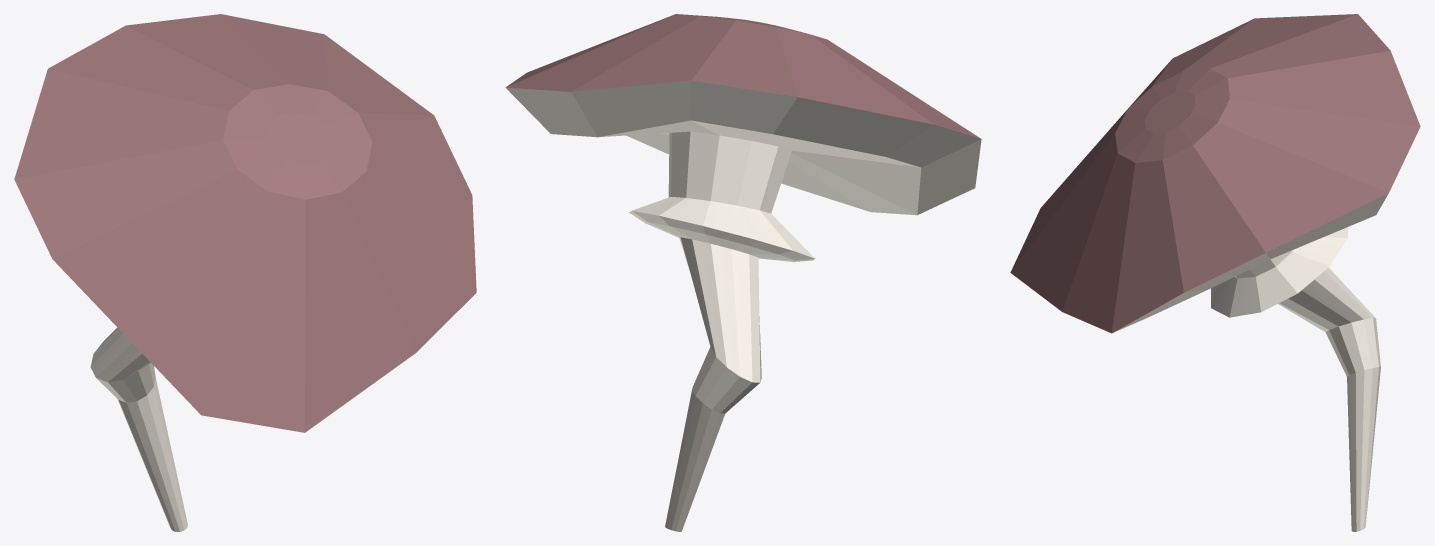
The model's file is MUSHROM3.fbx.
3 views of the same model, side by side, from view 1: azimuth 30°, elevation 25°; view 2: azimuth 150°, elevation 25°; view 3: azimuth 270°, elevation 25° (orthographic). The views are drawn at different scales.
Visible parts, largest first — view 1: Cube.001; view 2: Cube.001; view 3: Cube.001.
Boxes of the visible parts, x1=… form: Cube.001: x1=14, y1=14, x2=476, y2=531; Cube.001: x1=505, y1=14, x2=981, y2=531; Cube.001: x1=1010, y1=14, x2=1420, y2=531.
Size of the model in its own units: 9.02 by 9.96 by 7.98.
